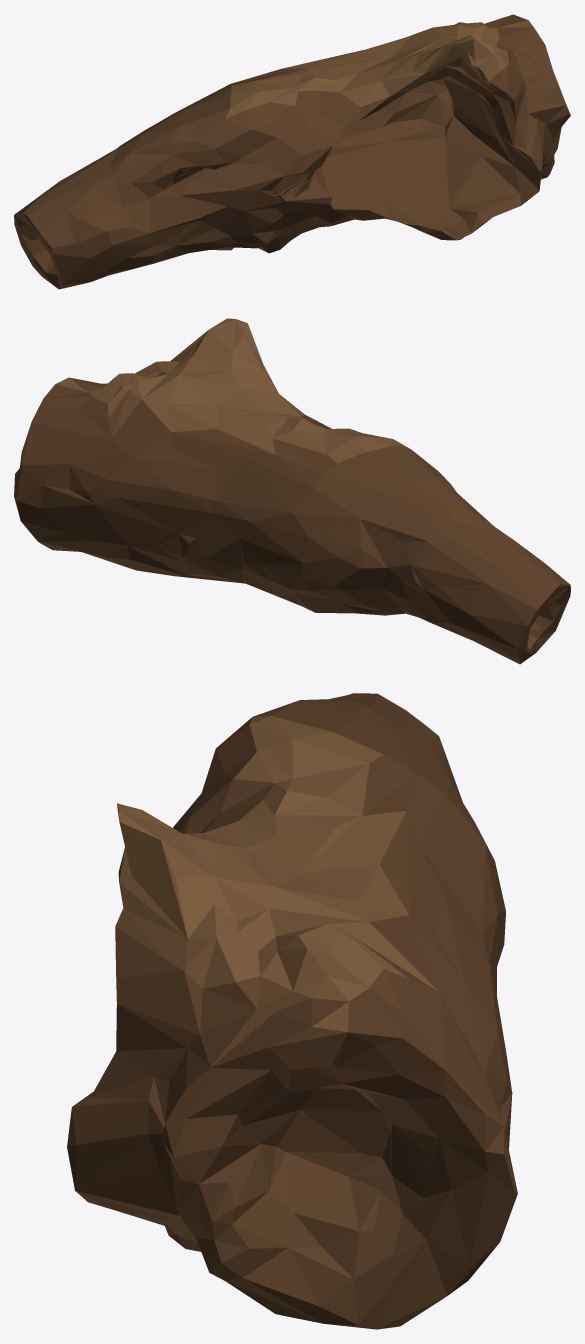
The model's file is log-3.glb.
The picture shows the model from 3 angles, top to bottom: view 1: azimuth 30°, elevation 25°; view 2: azimuth 150°, elevation 25°; view 3: azimuth 270°, elevation 25°; orthographic projection. The views are drawn at different scales.
Visible parts, largest first — view 1: output_unwrapped; view 2: output_unwrapped; view 3: output_unwrapped.
Boxes of the visible parts, <box> form: output_unwrapped: <box>14,14,570,289</box>; output_unwrapped: <box>14,318,570,664</box>; output_unwrapped: <box>67,693,517,1329</box>.
Size of the model in its own units: 4 by 1.58 by 1.56.
